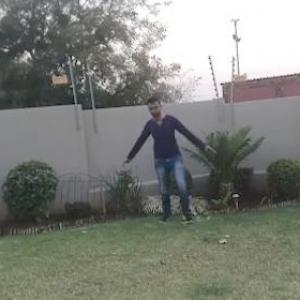land: (114, 92, 222, 234)
